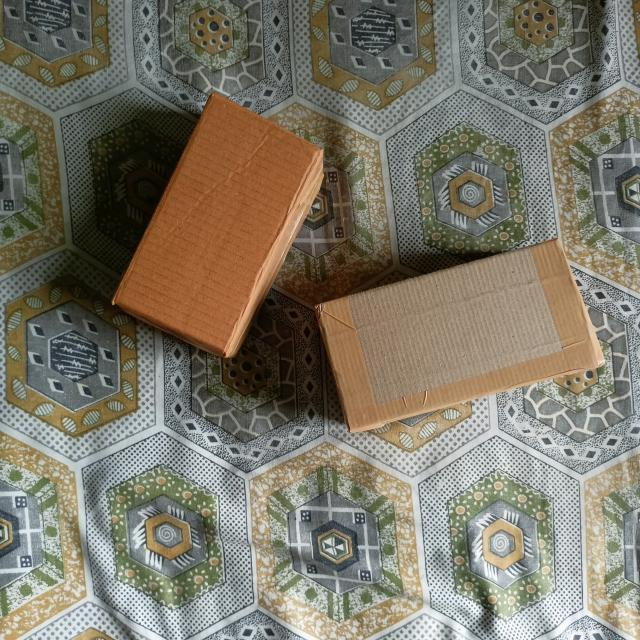box: (112, 95, 318, 353), (323, 242, 600, 432)
